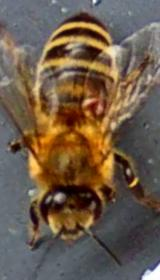varroa_mite: (78, 86, 106, 123)
